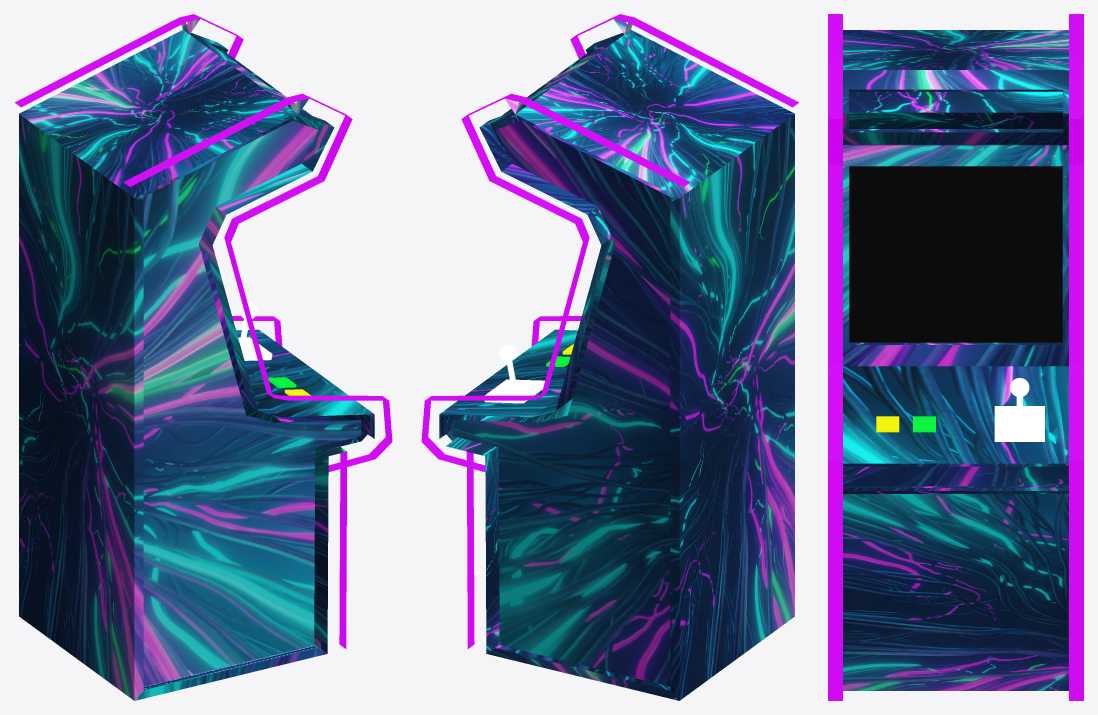
The model's file is arcade2.gltf.
The picture shows the model from 3 angles, left to right: view 1: azimuth 30°, elevation 25°; view 2: azimuth 150°, elevation 25°; view 3: azimuth 270°, elevation 25°; orthographic projection. The views are drawn at different scales.
Parts seen in each view (by area): view 1: arcadeMachineBody, arcadeMachinePinkBars, joystick; view 2: arcadeMachineBody, arcadeMachinePinkBars, joystick; view 3: arcadeMachineBody, screen, arcadeMachinePinkBars, joystick, butBack.
Part boxes in pixels (x1,y1,x2,y2): arcadeMachineBody: (19, 19, 374, 700); arcadeMachinePinkBars: (15, 14, 392, 648); joystick: (238, 302, 272, 360); arcadeMachineBody: (439, 19, 794, 700); arcadeMachinePinkBars: (421, 14, 798, 648); joystick: (484, 344, 544, 403); arcadeMachineBody: (843, 30, 1068, 690); screen: (849, 166, 1062, 342); arcadeMachinePinkBars: (828, 14, 1083, 700); joystick: (994, 378, 1044, 441); butBack: (876, 416, 899, 432).
Bounding box in the file's own units: 2.73 × 5.56 × 2.08.
6 materials, 1 textured.
